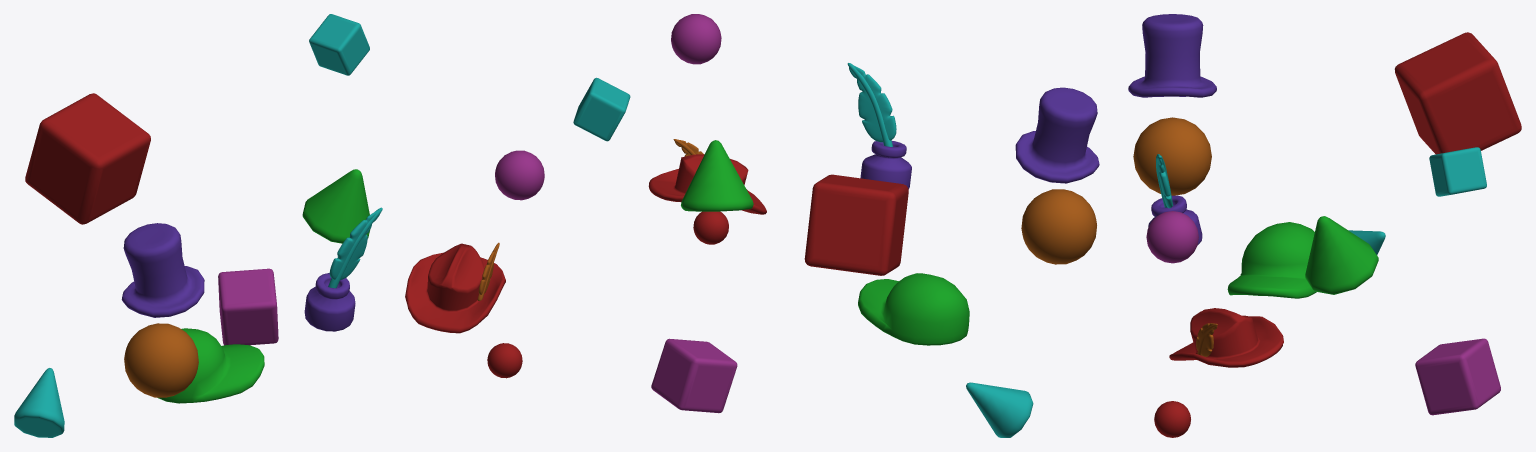
Rendered from demo_shapes.glb.
3 views of the same model, side by side, from view 1: azimuth 30°, elevation 25°; view 2: azimuth 150°, elevation 25°; view 3: azimuth 270°, elevation 25° (orthographic). The views are drawn at different scales.
Visible parts, largest first — view 1: .cube .red, #feather-cap .hat .red, #tophat .hat .purple, .ball .orange, .cube .pink, #baseball-cap .hat .green, .cone .green, .cube .blue, .cone .blue, #inkwell .purple, .ball .pink, .feather .blue (+1 smaller); view 2: .cube .red, #baseball-cap .hat .green, #tophat .hat .purple, .cube .pink, .ball .orange, .cone .green, .cone .blue, .cube .blue, .ball .pink, .feather .blue, #feather-cap .hat .red, #inkwell .purple (+1 smaller); view 3: .cube .red, #tophat .hat .purple, .cube .pink, #baseball-cap .hat .green, .ball .orange, #feather-cap .hat .red, .cone .green, .cube .blue, .ball .pink, .ball .red, #inkwell .purple, .feather .blue (+2 smaller).
Boxes of the visible parts, left/top/right/bottom form: .cube .red: left=25, top=93, right=150, bottom=224; #feather-cap .hat .red: left=405, top=243, right=505, bottom=333; #tophat .hat .purple: left=121, top=223, right=204, bottom=317; .ball .orange: left=124, top=323, right=198, bottom=397; .cube .pink: left=218, top=268, right=278, bottom=345; #baseball-cap .hat .green: left=157, top=328, right=264, bottom=403; .cone .green: left=302, top=169, right=369, bottom=243; .cube .blue: left=309, top=14, right=369, bottom=75; .cone .blue: left=14, top=368, right=64, bottom=437; #inkwell .purple: left=304, top=273, right=355, bottom=331; .ball .pink: left=495, top=150, right=544, bottom=200; .feather .blue: left=328, top=207, right=382, bottom=288; .cube .red: left=804, top=174, right=908, bottom=275; #baseball-cap .hat .green: left=858, top=273, right=969, bottom=345; #tophat .hat .purple: left=1015, top=87, right=1099, bottom=183; .cube .pink: left=651, top=338, right=737, bottom=413; .ball .orange: left=1021, top=189, right=1096, bottom=264; .cone .green: left=681, top=140, right=753, bottom=211; .cone .blue: left=966, top=382, right=1033, bottom=437; .cube .blue: left=573, top=77, right=630, bottom=141; .ball .pink: left=671, top=14, right=721, bottom=64; .feather .blue: left=847, top=63, right=896, bottom=146; #feather-cap .hat .red: left=648, top=154, right=766, bottom=214; #inkwell .purple: left=860, top=141, right=911, bottom=189; .cube .red: left=1394, top=32, right=1521, bottom=154; #tophat .hat .purple: left=1128, top=14, right=1216, bottom=97; .cube .pink: left=1415, top=338, right=1500, bottom=415; #baseball-cap .hat .green: left=1227, top=222, right=1316, bottom=298; .ball .orange: left=1133, top=117, right=1211, bottom=195; #feather-cap .hat .red: left=1169, top=308, right=1283, bottom=367; .cone .green: left=1305, top=216, right=1378, bottom=294; .cube .blue: left=1429, top=147, right=1486, bottom=196; .ball .pink: left=1146, top=211, right=1198, bottom=263; .ball .red: left=1154, top=401, right=1190, bottom=437; #inkwell .purple: left=1148, top=195, right=1202, bottom=244; .feather .blue: left=1156, top=154, right=1173, bottom=208.
Size of the model in its own units: 2.1 by 1.36 by 1.56.
